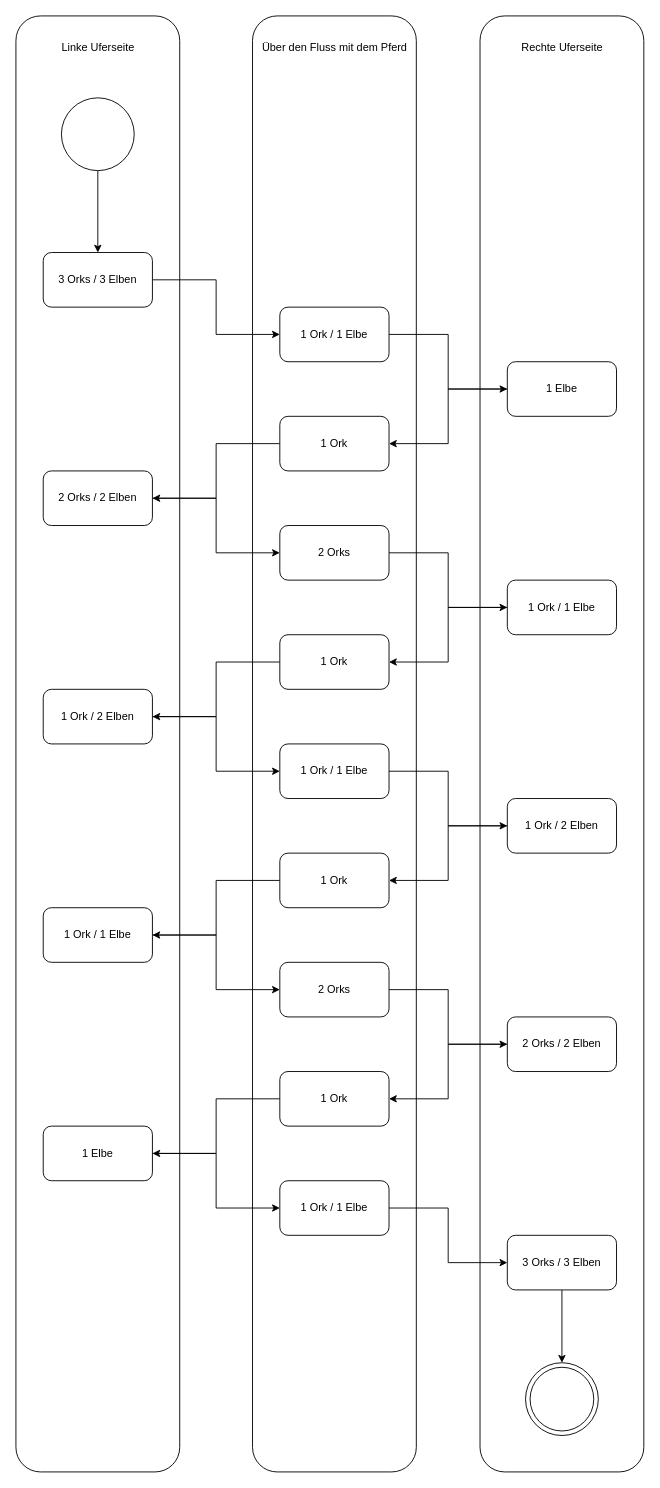
The diagram is 660 pixels wide and 1488 high, and some of its shapes have lost their labels. The shapes that lost their labels are listed below. From the top down, each one's centre as x and y in pixels, then its label:
the point at 97,134: Start
the point at 561,1398: Ende
